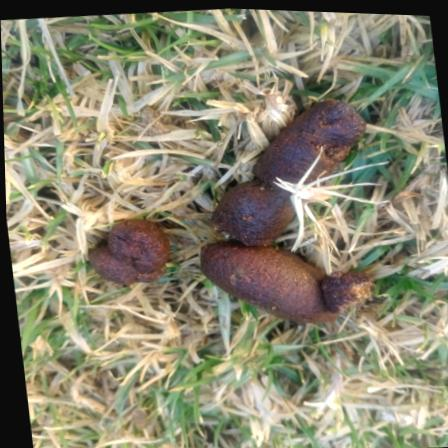dog-poop: (63, 82, 406, 352)
